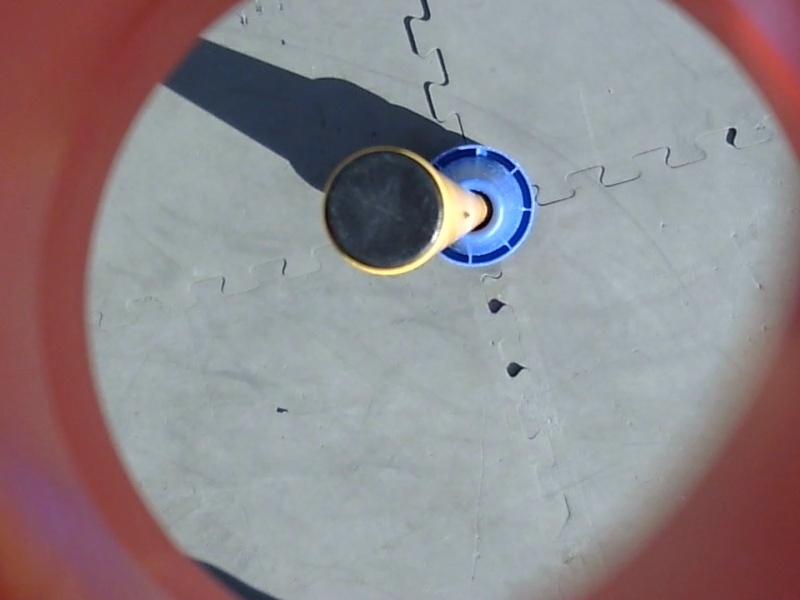tip: (317, 141, 454, 280)
